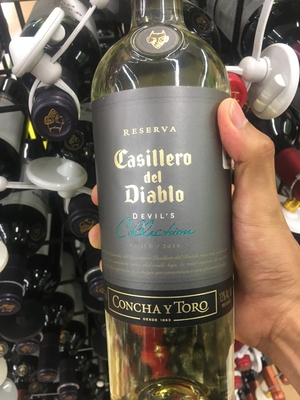casillero del diablo devils collection verde: (80, 5, 242, 400)
